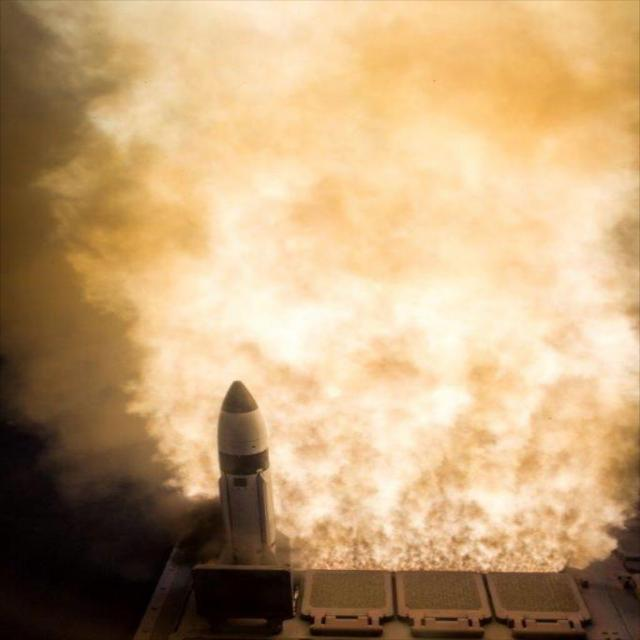rocket: (187, 385, 292, 561)
